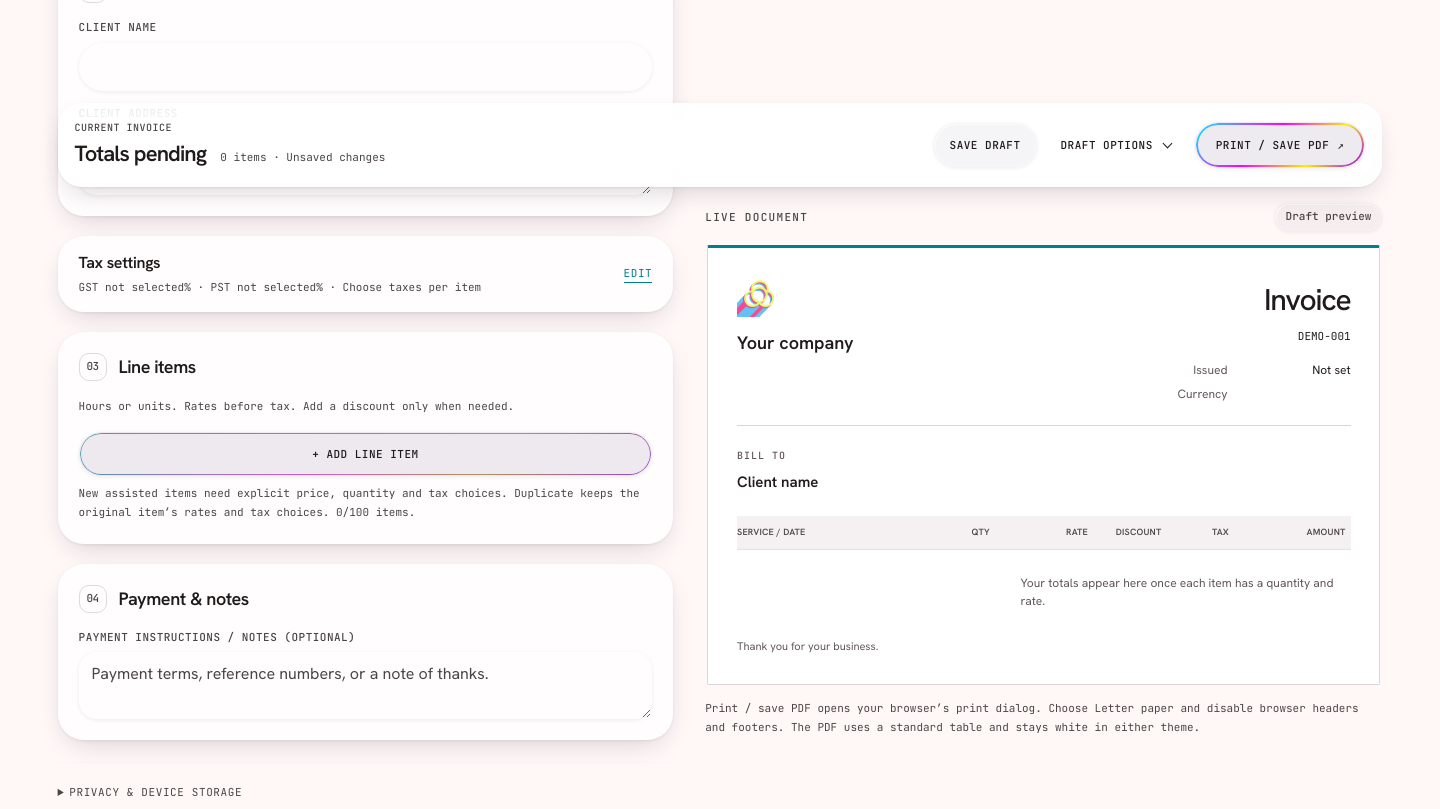
the guided actual editor shows missing choices and exposes only the narrow controller
Later steps or results of the test are not shown.
(page scrolled)
Expected: the field labelled "Client name" is empty, [79, 42, 652, 90]
What coordinates should you click on to do the following:
click the button "+ Add line item"
I would click on:
 (365, 454)
Its box is [79, 432, 652, 476].
(page scrolled)
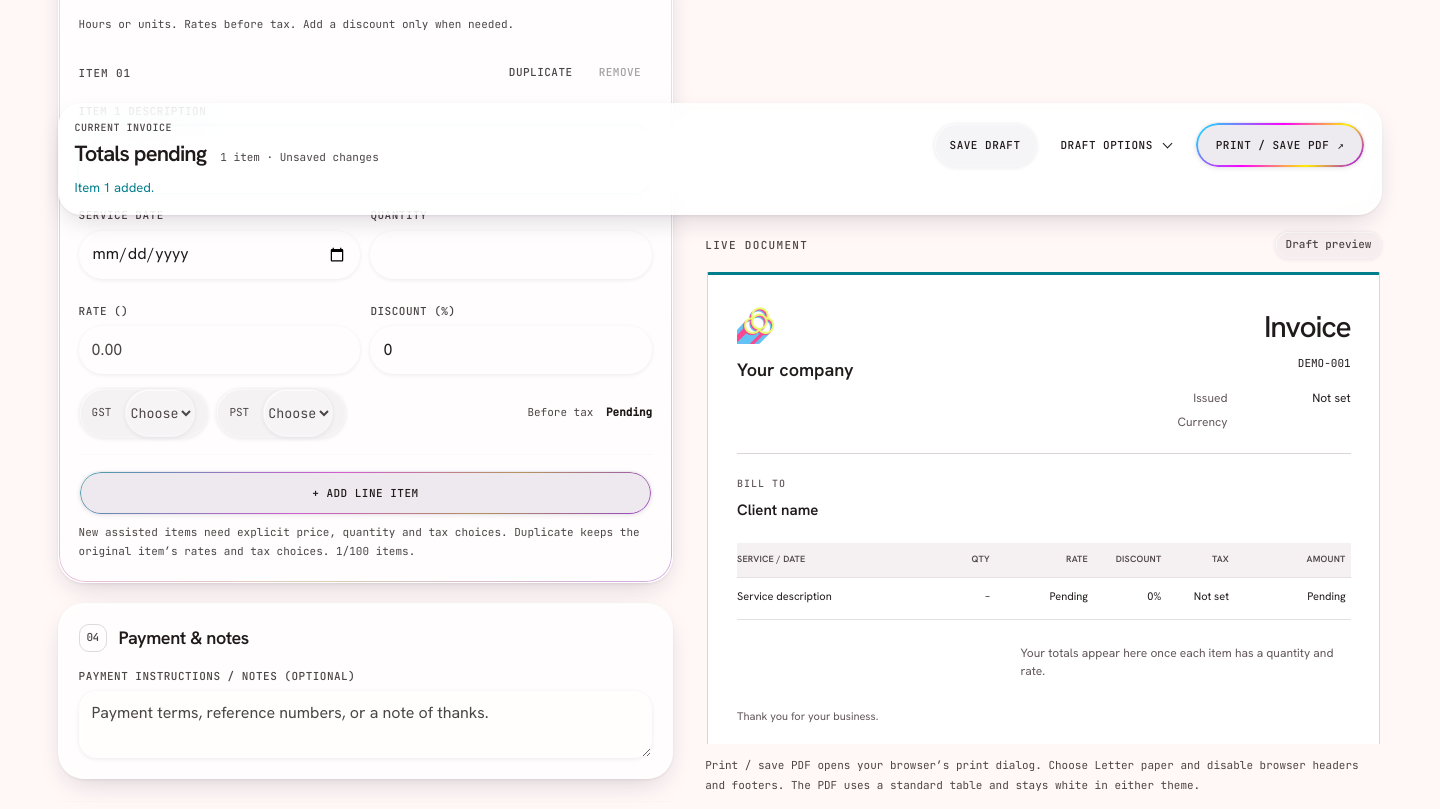
Expected: the field labelled "Quantity" is empty, [370, 231, 652, 279]
Result: the dropdown named "Apply GST to item 1" shows "Choose" at [125, 389, 195, 437]
Result: the dropdown named "Apply PST to item 1" shows "Choose" at [263, 389, 333, 437]
